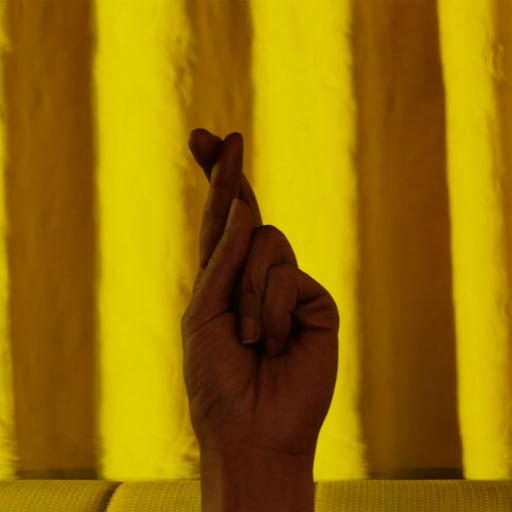R: (178, 124, 344, 448)
